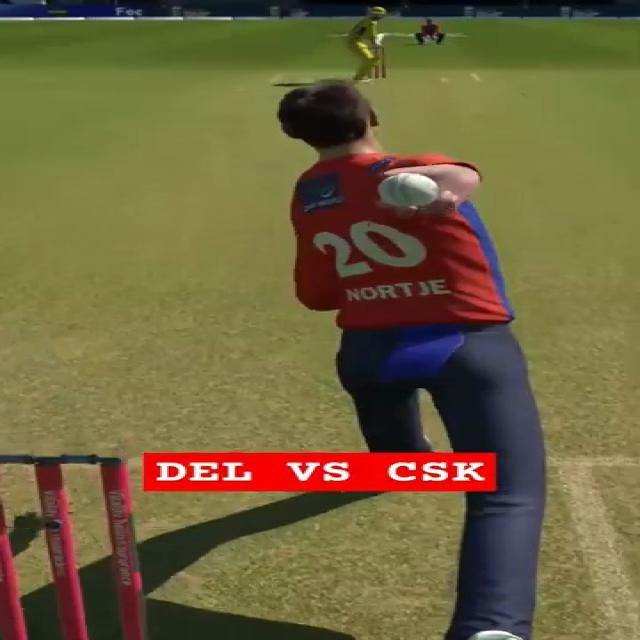ball: (380, 171, 437, 208)
